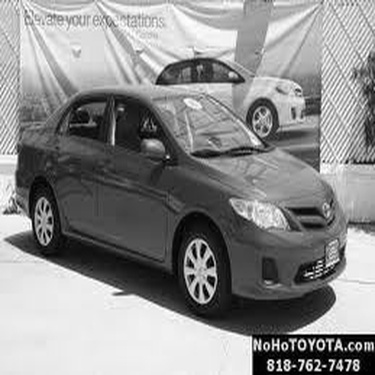car: (14, 78, 353, 317), (146, 58, 309, 140)
